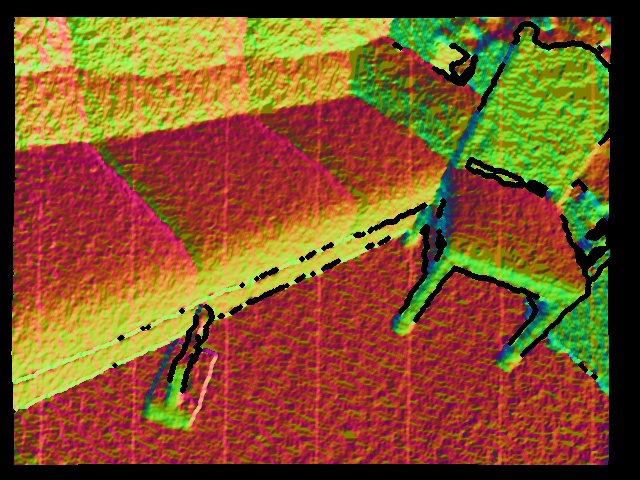station: (144, 301, 219, 436)
